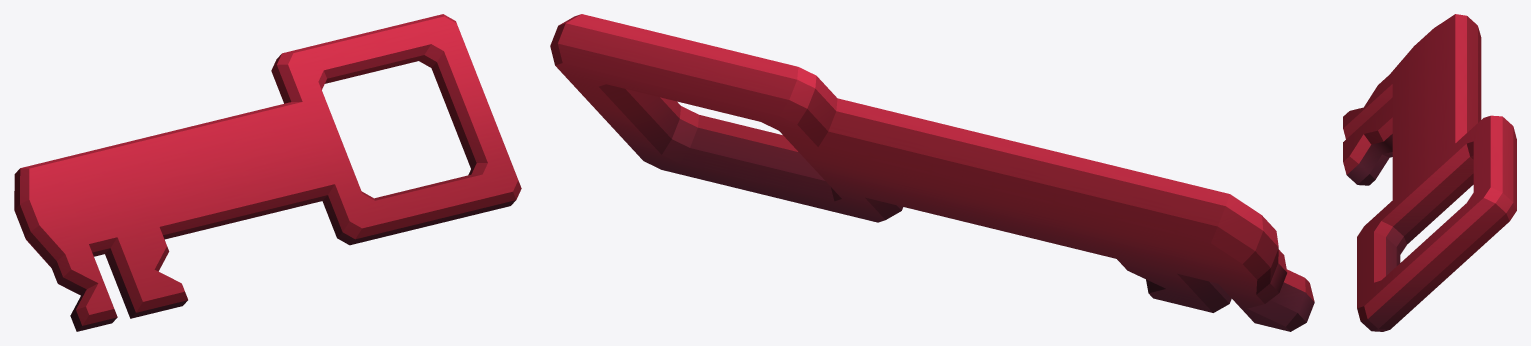
Rendered from boxKey1_mesh.fbx.
The picture shows the model from 3 angles, left to right: view 1: azimuth 30°, elevation 25°; view 2: azimuth 150°, elevation 25°; view 3: azimuth 270°, elevation 25°; orthographic projection. The views are drawn at different scales.
Parts seen in each view (by area): view 1: boxKey1_mesh; view 2: boxKey1_mesh; view 3: boxKey1_mesh.
Part boxes in pixels (<box>): boxKey1_mesh: <box>14,14,521,331</box>; boxKey1_mesh: <box>550,14,1314,331</box>; boxKey1_mesh: <box>1343,14,1516,331</box>.
Size of the model in its own units: 88.96 by 29.73 by 29.73.
